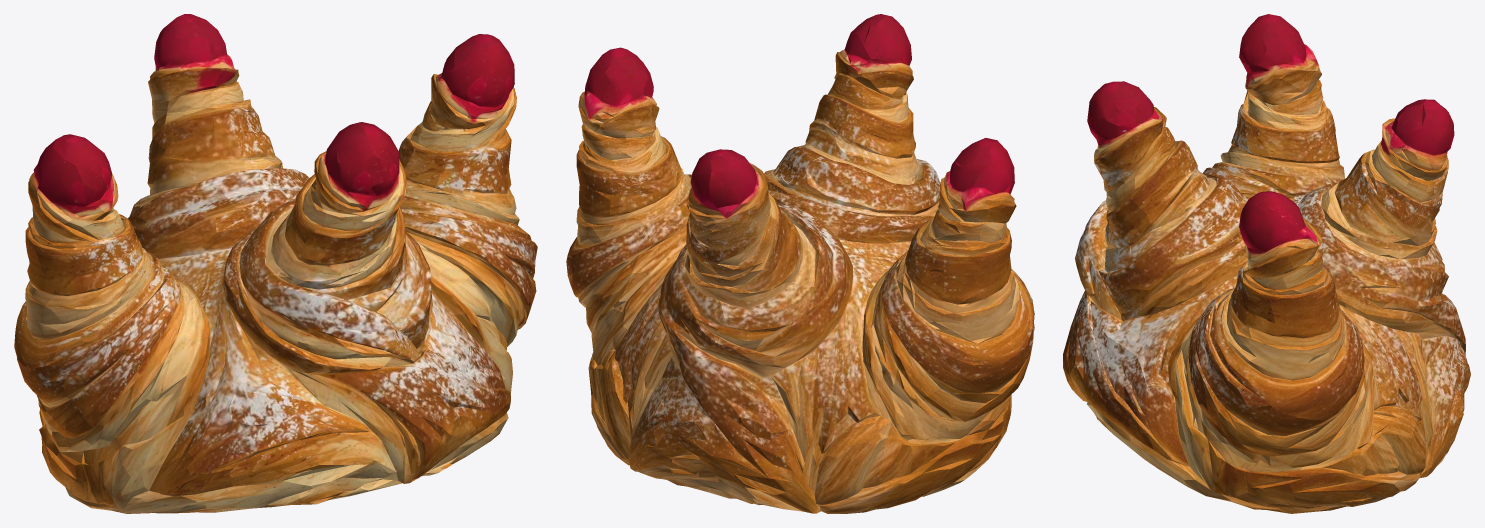
File: croissant_crown.glb
The picture shows the model from 3 angles, left to right: view 1: azimuth 30°, elevation 25°; view 2: azimuth 150°, elevation 25°; view 3: azimuth 270°, elevation 25°; orthographic projection. The views are drawn at different scales.
Parts seen in each view (by area): view 1: Mesh_0; view 2: Mesh_0; view 3: Mesh_0.
Boxes of the visible parts, <box> form: Mesh_0: <box>14,14,537,513</box>; Mesh_0: <box>566,14,1034,513</box>; Mesh_0: <box>1063,14,1470,513</box>.
Size of the model in its own units: 1 by 0.7798 by 0.8121.
1 material, 1 textured.
